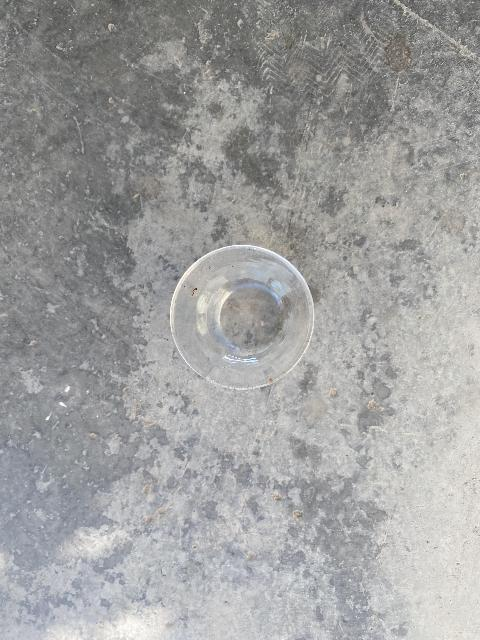Cam: (163, 240, 319, 392)
